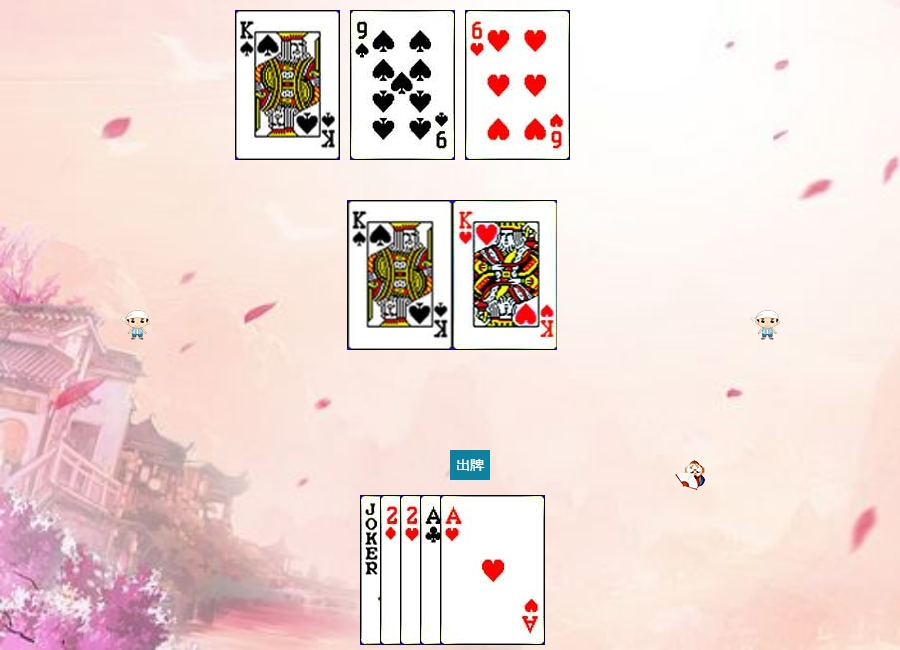13~3: (453, 200, 558, 350)
13~4: (235, 10, 340, 160), (348, 200, 453, 350)
14~2: (420, 495, 525, 645)
14~3: (440, 495, 545, 645)
15~1: (380, 495, 485, 645)
15~3: (400, 495, 505, 645)
17~3: (360, 495, 465, 645)
6~3: (465, 10, 570, 160)
9~4: (350, 10, 455, 160)
